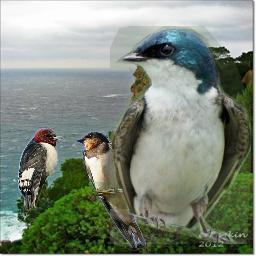Swallow: (110, 26, 251, 244), (75, 131, 146, 248)
Woodpecker: (18, 128, 67, 217)
